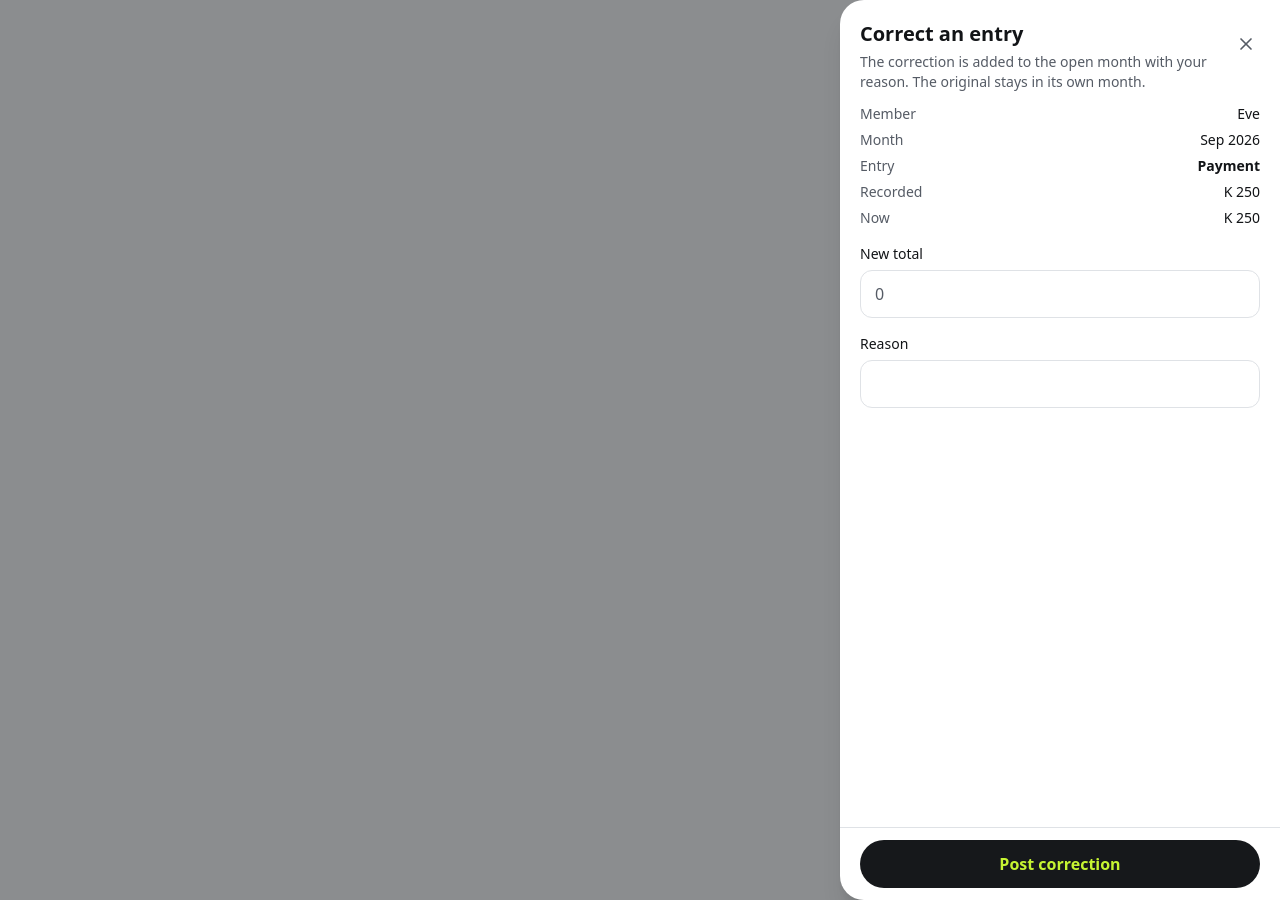
Test case: a blank total is refused, not read as zero
This screenshot has width=1280, height=900.
Type "Wrong amount typed" into the field labelled "Reason". click: [1060, 384]
box: [860,360,1260,408]
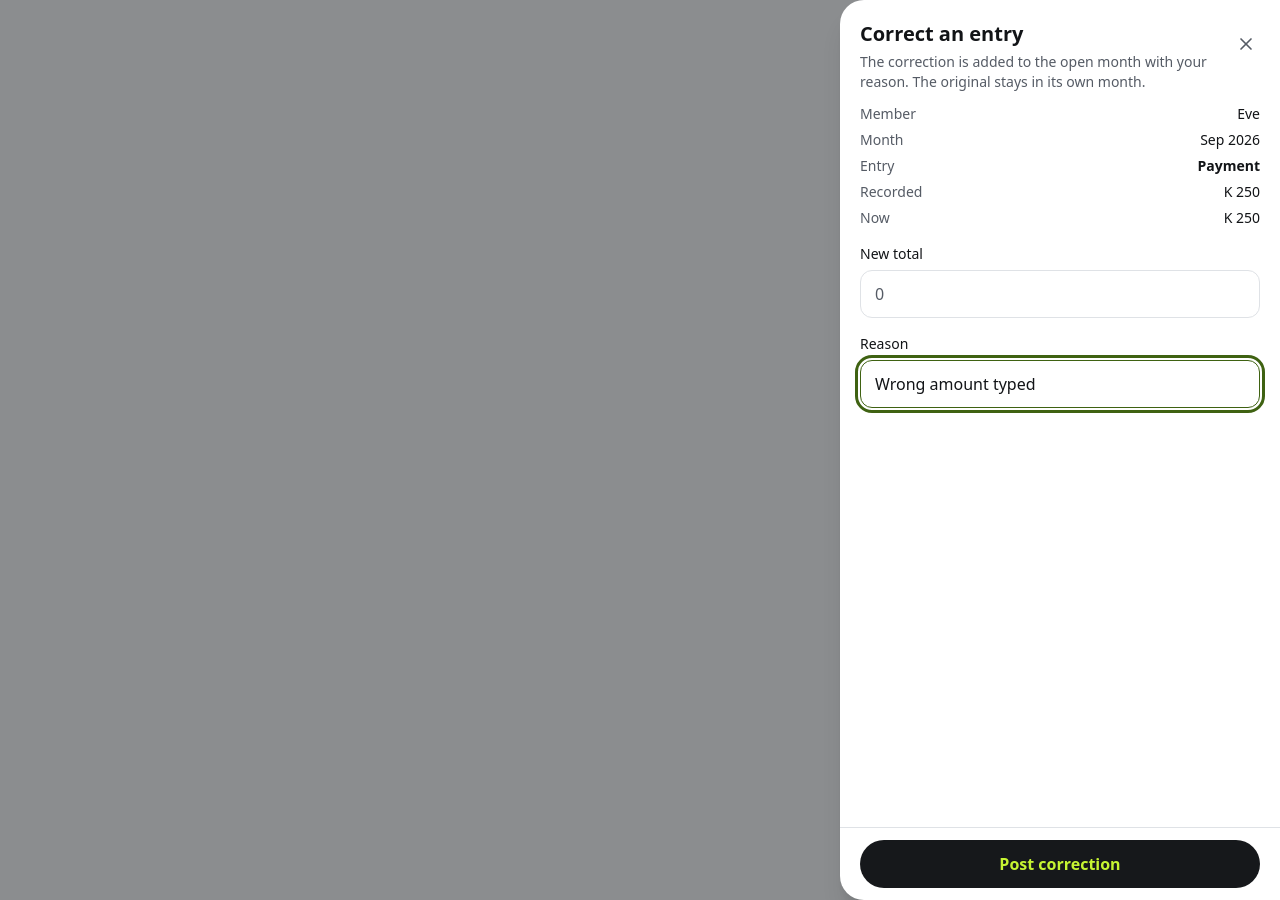
Click the button "Post correction". click: [1060, 864]
box: [860,840,1260,888]
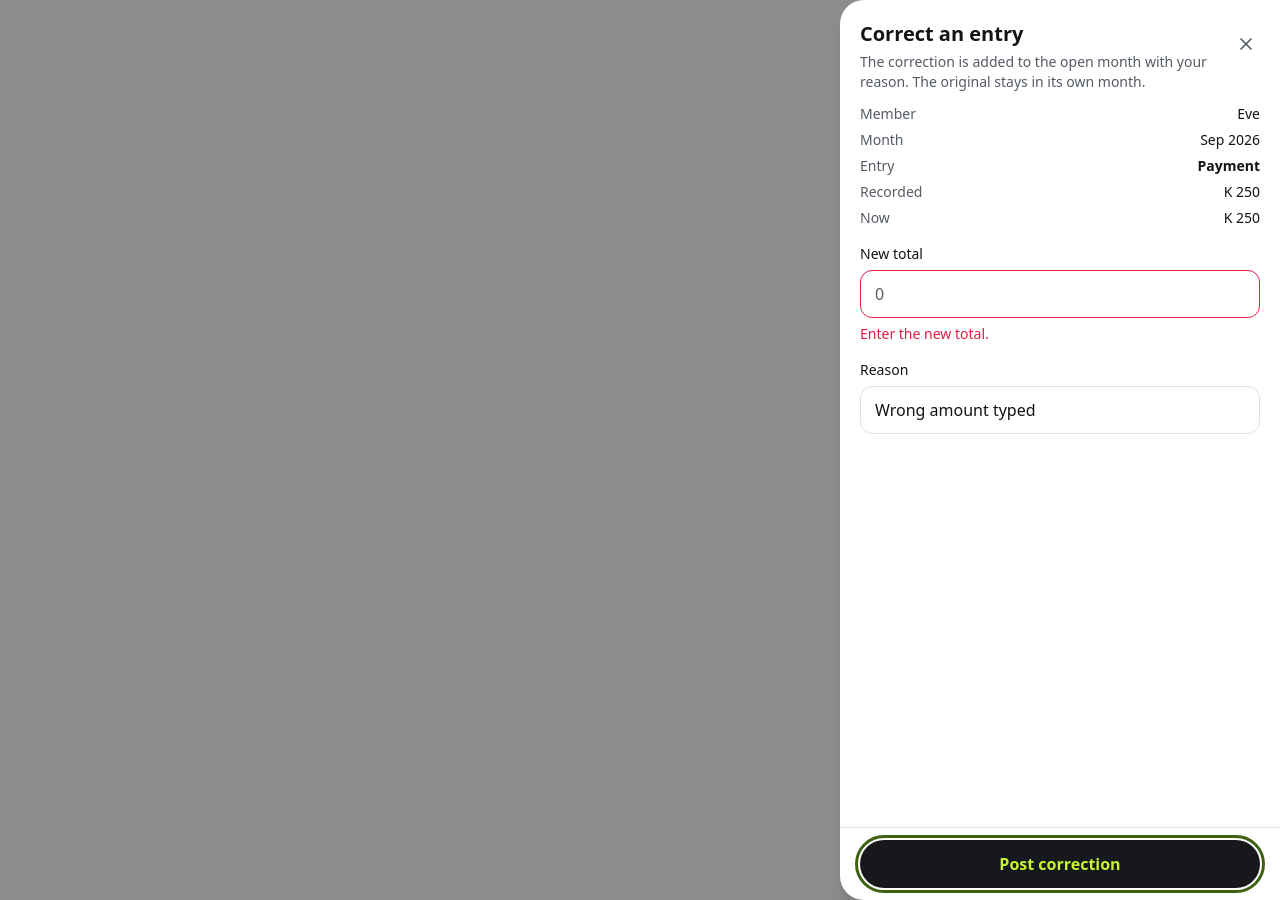
Expected: the text "Enter the new total." is shown, [860,324,989,343]
